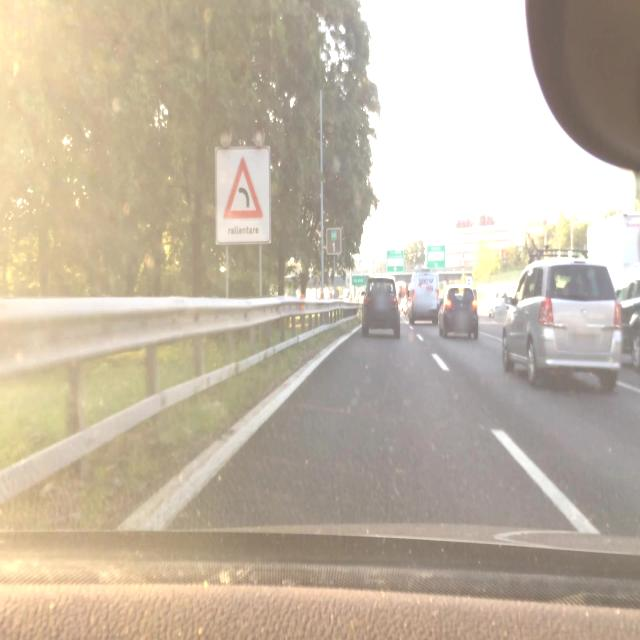car: (502, 254, 623, 391), (614, 264, 640, 374), (361, 276, 401, 338), (438, 283, 479, 340), (408, 269, 439, 326), (490, 296, 511, 320)
